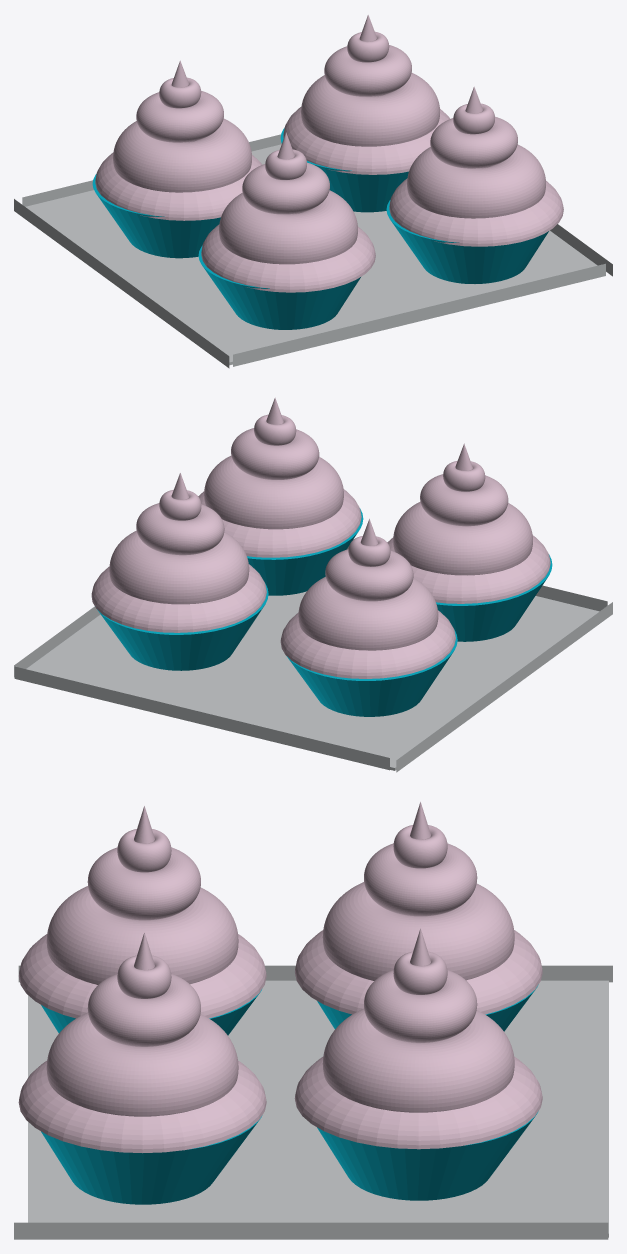
The model's file is Cash - Cupcakes.glb.
The picture shows the model from 3 angles, top to bottom: view 1: azimuth 30°, elevation 25°; view 2: azimuth 150°, elevation 25°; view 3: azimuth 270°, elevation 25°; orthographic projection. The views are drawn at different scales.
Parts seen in each view (by area): view 1: Mesh_Mesh_head_geo.001_lambert2SG.001; view 2: Mesh_Mesh_head_geo.001_lambert2SG.001; view 3: Mesh_Mesh_head_geo.001_lambert2SG.001.
Boxes of the visible parts, x1,y1,x2,y2 form: Mesh_Mesh_head_geo.001_lambert2SG.001: [14, 15, 612, 368]; Mesh_Mesh_head_geo.001_lambert2SG.001: [14, 397, 612, 772]; Mesh_Mesh_head_geo.001_lambert2SG.001: [14, 802, 612, 1239].
Bounding box in the file's own units: 0.13 × 0.058 × 0.128.
